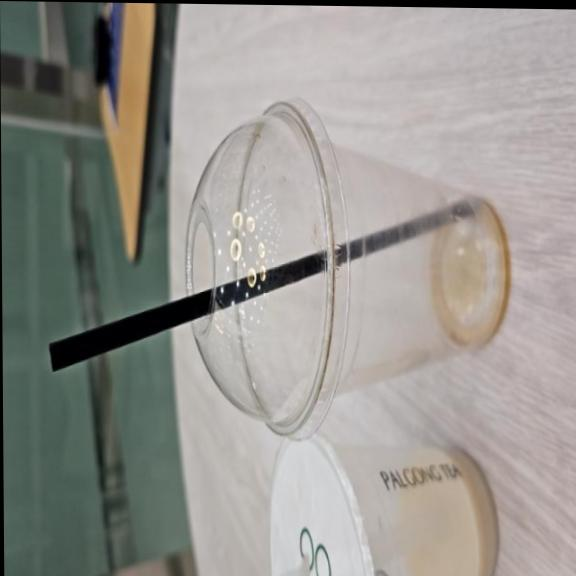Plastik: (187, 100, 507, 436), (271, 437, 497, 575)
